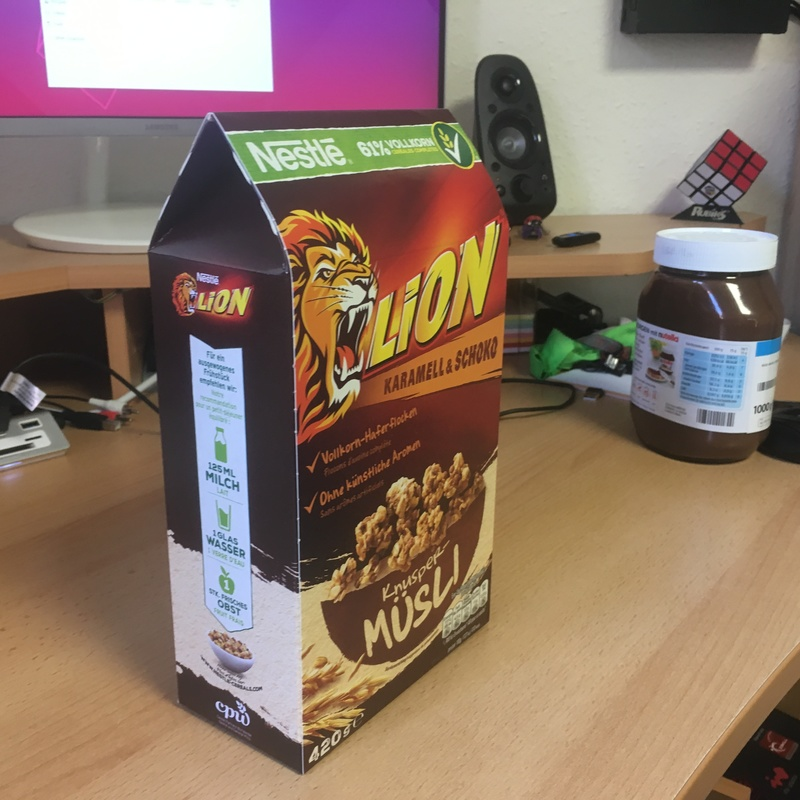cereals: (149, 110, 512, 773)
